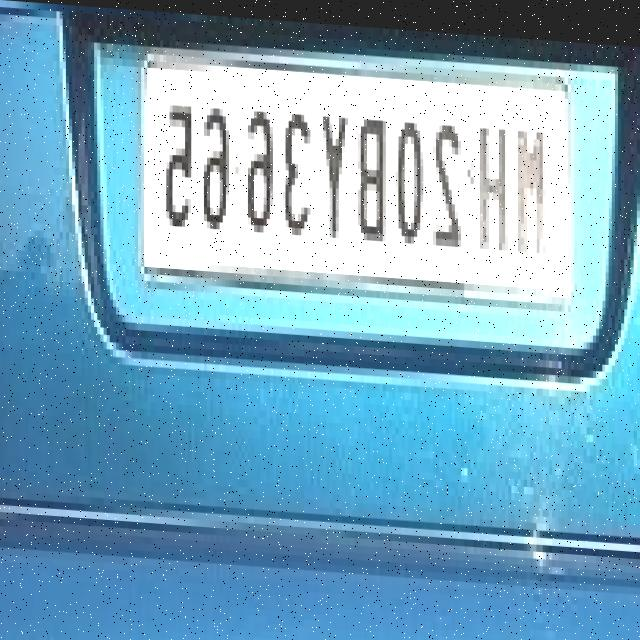plate: (138, 29, 577, 297)
